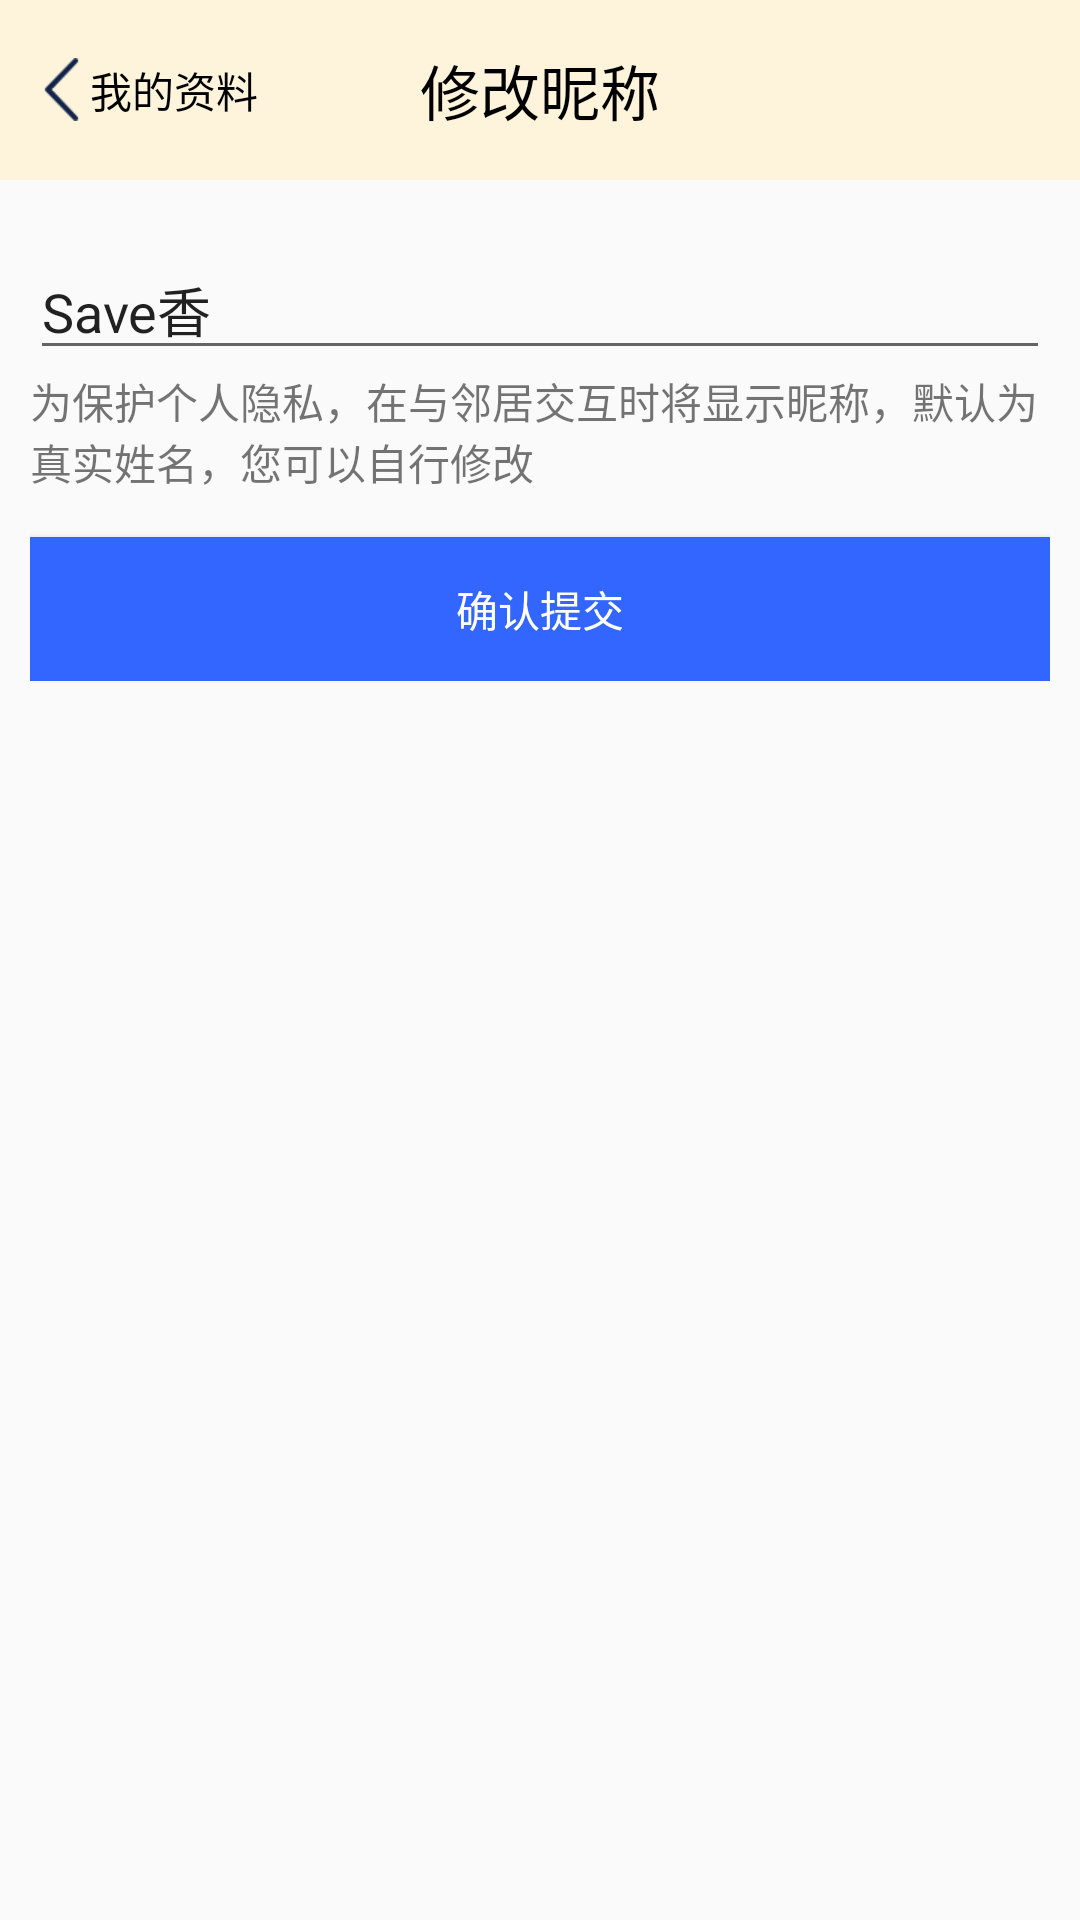

Icons on this 1080x1920 Android screen, each with its box as (x1=x1, y1=y1, x2=x2, y2=y2):
back: (x1=44, y1=58, x2=79, y2=121)
